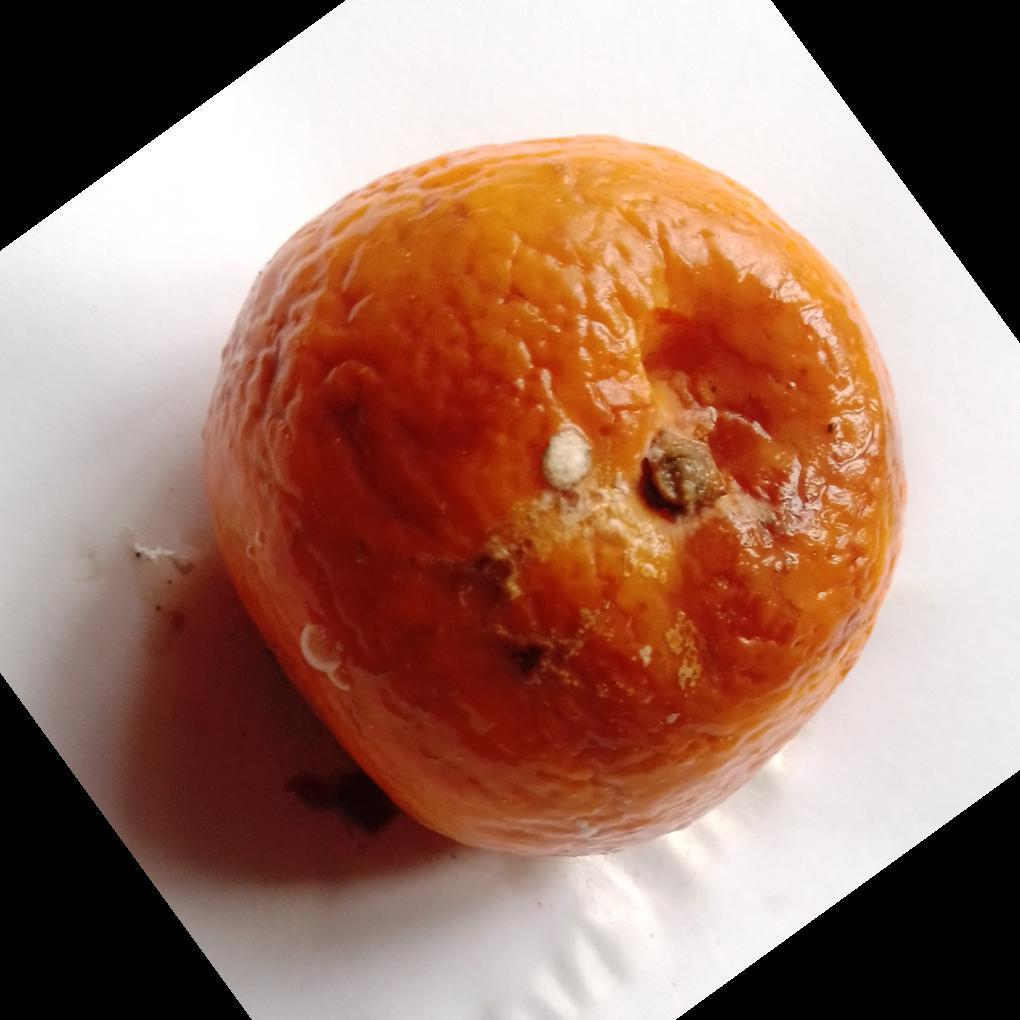FreshOrange: (200, 135, 905, 863)
